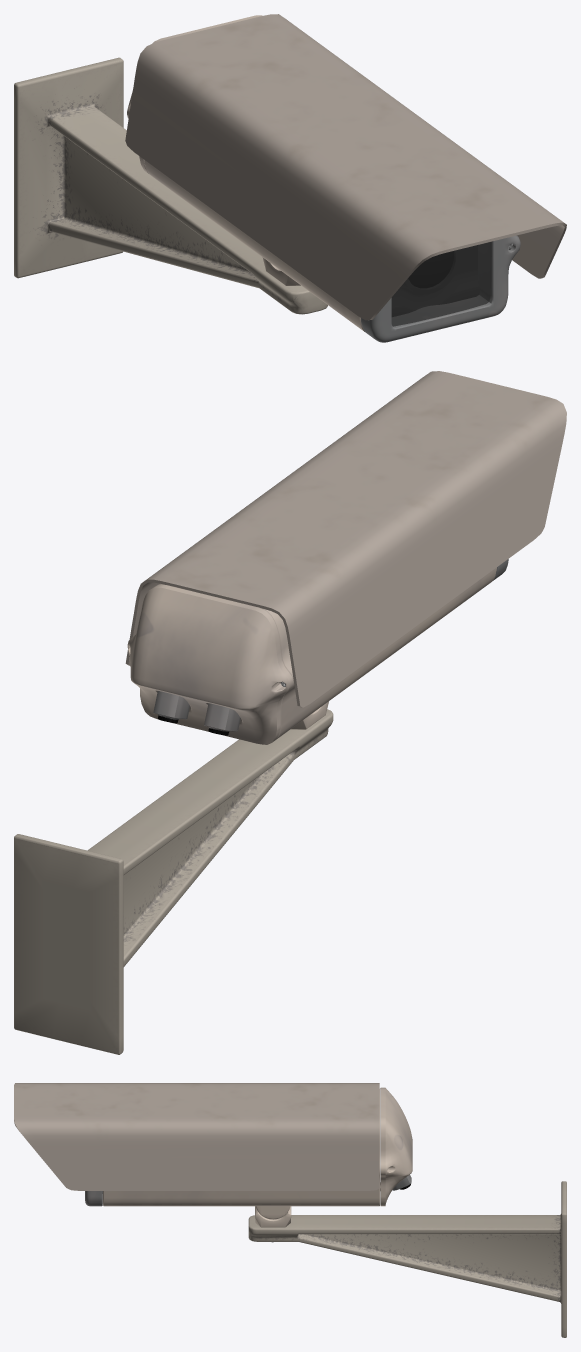
The model's file is camera.glb.
3 renders of one model, top to bottom at view 1: azimuth 30°, elevation 25°; view 2: azimuth 150°, elevation 25°; view 3: azimuth 270°, elevation 25°, orthographic. The views are drawn at different scales.
Parts seen in each view (by area): view 1: Object_2, Object_4, Object_7, Object_3; view 2: Object_2, Object_4, Object_7; view 3: Object_2, Object_4, Object_7, Object_6.
Part boxes in pixels (x1=…): Object_2: x1=125, y1=14, x2=566, y2=320; Object_4: x1=14, y1=57, x2=327, y2=314; Object_7: x1=127, y1=15, x2=520, y2=342; Object_3: x1=391, y1=242, x2=491, y2=326; Object_2: x1=125, y1=371, x2=566, y2=707; Object_4: x1=14, y1=709, x2=333, y2=1054; Object_7: x1=127, y1=559, x2=508, y2=744; Object_2: x1=14, y1=1083, x2=379, y2=1190; Object_4: x1=248, y1=1181, x2=566, y2=1337; Object_7: x1=85, y1=1087, x2=412, y2=1219; Object_6: x1=255, y1=1206, x2=291, y2=1227.
Bounding box in the file's own units: 2.57 × 4.78 × 10.92.
Materials: 5 (5 with a texture image).
